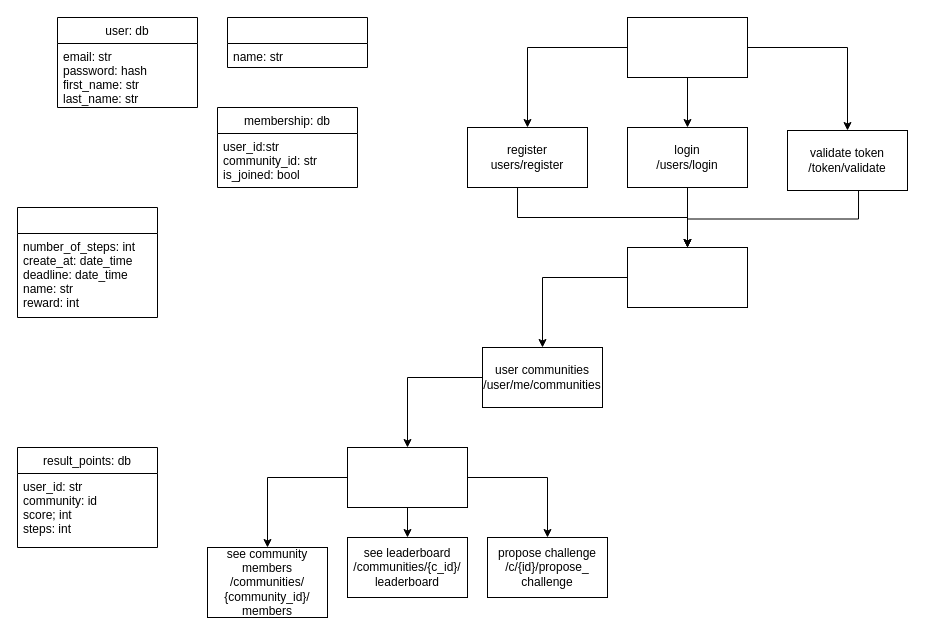
This 925x636 diagram has some shape labels left out. The shapes that lost their labels are listed below. From the top down, each one's box as (x1, y1, x2, y2) in pixels, then its label:
(226, 16, 368, 68): community: db
(626, 16, 748, 78): Start
(16, 206, 158, 318): chalange: db
(626, 246, 748, 308): all active challenges /user/me/challenges
(346, 446, 468, 508): see a community /communities/ {community_id}
